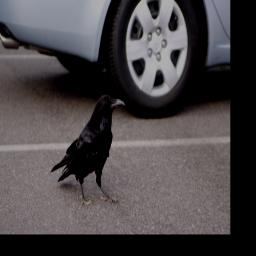Crow: (49, 91, 125, 205)
